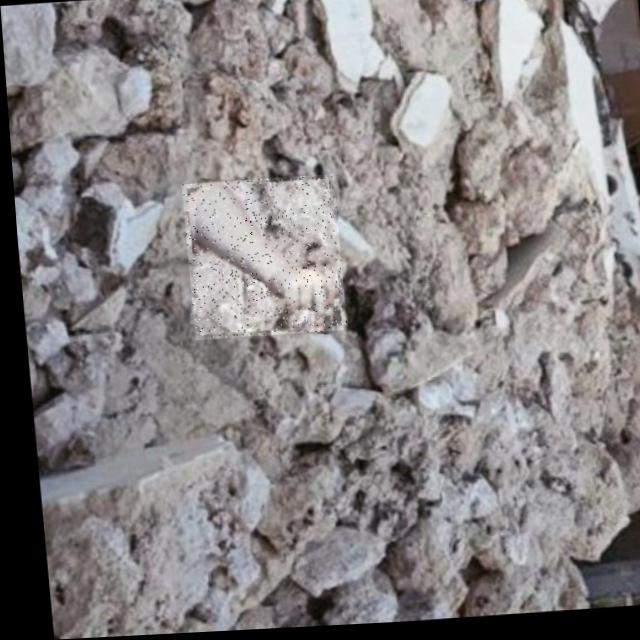Person in Rubble: (177, 176, 341, 342)
